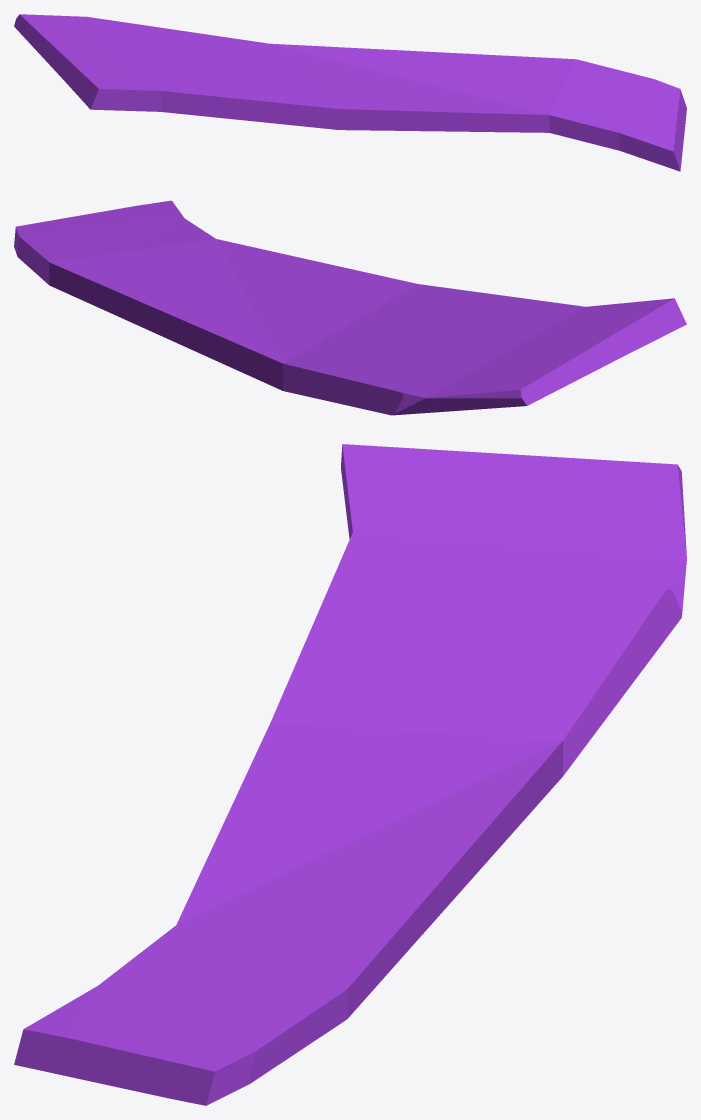
The model's file is Glass_100_0_2_chunks.fbx.
The picture shows the model from 3 angles, top to bottom: view 1: azimuth 30°, elevation 25°; view 2: azimuth 150°, elevation 25°; view 3: azimuth 270°, elevation 25°; orthographic projection. The views are drawn at different scales.
Parts seen in each view (by area): view 1: Glass_100_0_2_4, Glass_100_0_2_9, Glass_100_0_2_1, Glass_100_0_2_11, Glass_100_0_2_3, Glass_100_0_2_5, Glass_100_0_2_12, Glass_100_0_2_0, Glass_100_0_2_8, Glass_100_0_2_6, Glass_100_0_2_7; view 2: Glass_100_0_2_4, Glass_100_0_2_3, Glass_100_0_2_5, Glass_100_0_2_1, Glass_100_0_2_9, Glass_100_0_2_12, Glass_100_0_2_8, Glass_100_0_2_11, Glass_100_0_2_6, Glass_100_0_2_2, Glass_100_0_2_0, Glass_100_0_2_7; view 3: Glass_100_0_2_4, Glass_100_0_2_3, Glass_100_0_2_1, Glass_100_0_2_5, Glass_100_0_2_9, Glass_100_0_2_11, Glass_100_0_2_12, Glass_100_0_2_6, Glass_100_0_2_8, Glass_100_0_2_0.
Part boxes in pixels (bbox=[...]): Glass_100_0_2_4: bbox=[14, 14, 240, 112]; Glass_100_0_2_9: bbox=[397, 81, 570, 132]; Glass_100_0_2_1: bbox=[211, 72, 400, 126]; Glass_100_0_2_11: bbox=[548, 101, 684, 171]; Glass_100_0_2_3: bbox=[118, 21, 374, 76]; Glass_100_0_2_5: bbox=[323, 46, 505, 89]; Glass_100_0_2_12: bbox=[548, 78, 686, 127]; Glass_100_0_2_0: bbox=[304, 93, 424, 131]; Glass_100_0_2_8: bbox=[487, 54, 582, 81]; Glass_100_0_2_6: bbox=[552, 61, 651, 80]; Glass_100_0_2_7: bbox=[478, 77, 546, 86]; Glass_100_0_2_4: bbox=[401, 298, 686, 408]; Glass_100_0_2_3: bbox=[243, 311, 416, 415]; Glass_100_0_2_5: bbox=[104, 273, 289, 378]; Glass_100_0_2_1: bbox=[275, 279, 524, 329]; Glass_100_0_2_9: bbox=[132, 238, 360, 292]; Glass_100_0_2_12: bbox=[14, 216, 156, 258]; Glass_100_0_2_8: bbox=[47, 257, 158, 309]; Glass_100_0_2_11: bbox=[76, 200, 213, 242]; Glass_100_0_2_6: bbox=[16, 237, 126, 306]; Glass_100_0_2_2: bbox=[394, 397, 492, 415]; Glass_100_0_2_0: bbox=[307, 271, 396, 288]; Glass_100_0_2_7: bbox=[133, 259, 206, 276]; Glass_100_0_2_4: bbox=[323, 444, 686, 660]; Glass_100_0_2_3: bbox=[395, 589, 682, 802]; Glass_100_0_2_1: bbox=[261, 600, 436, 811]; Glass_100_0_2_5: bbox=[308, 783, 538, 962]; Glass_100_0_2_9: bbox=[172, 779, 331, 956]; Glass_100_0_2_11: bbox=[14, 928, 215, 1093]; Glass_100_0_2_12: bbox=[141, 948, 288, 1105]; Glass_100_0_2_6: bbox=[239, 952, 389, 1089]; Glass_100_0_2_8: bbox=[288, 916, 409, 994]; Glass_100_0_2_0: bbox=[244, 743, 315, 802].
Bounding box in the file's own units: 1148 × 256 × 709.
